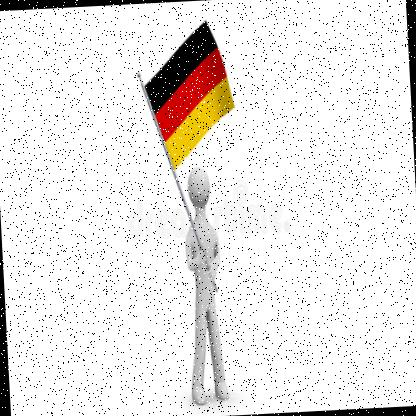de: (140, 17, 240, 176)
